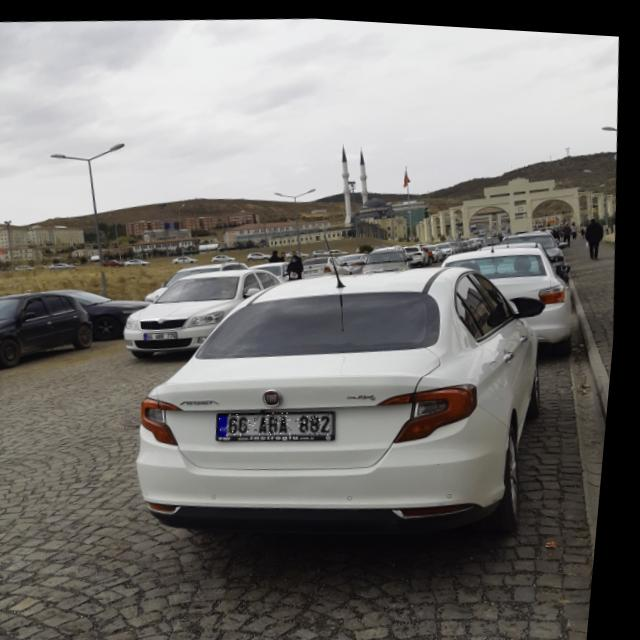license_plate: (224, 402, 342, 439)
